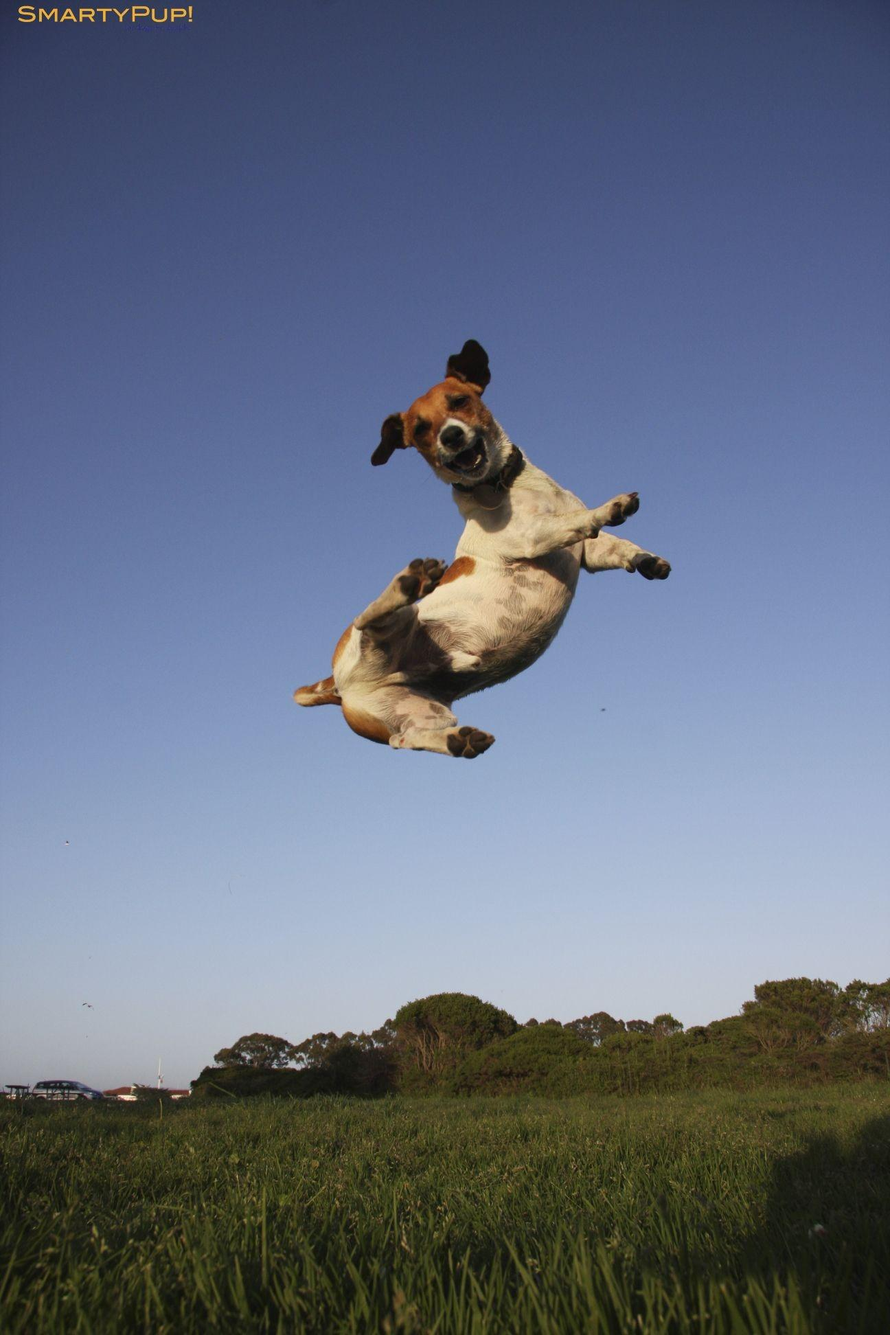adult_dog: (292, 334, 672, 760)
